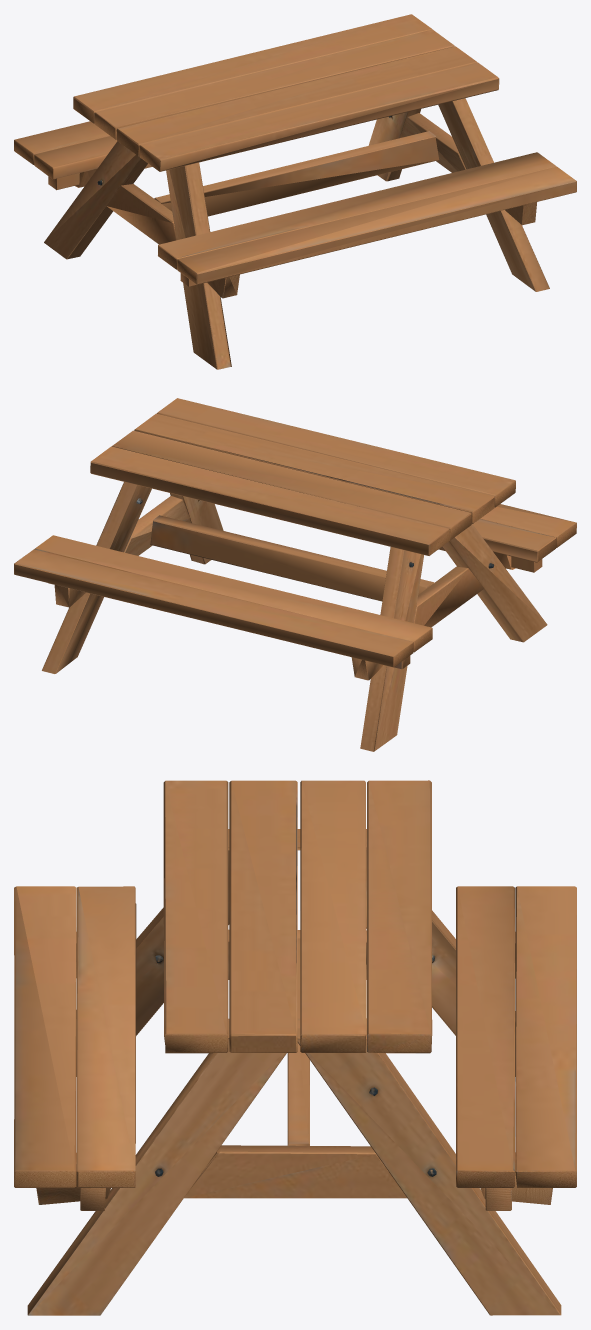
Rendered from picnic_table.glb.
3 renders of one model, top to bottom at view 1: azimuth 30°, elevation 25°; view 2: azimuth 150°, elevation 25°; view 3: azimuth 270°, elevation 25°, orthographic. The views are drawn at different scales.
Visible parts, largest first — view 1: picnic_table_lod0; view 2: picnic_table_lod0; view 3: picnic_table_lod0.
Part boxes in pixels (x1,y1,x2,y2): picnic_table_lod0: [14, 14, 576, 369]; picnic_table_lod0: [14, 398, 576, 751]; picnic_table_lod0: [14, 780, 576, 1315].
Size of what is drawn, in the model's own units: 1.8 by 0.8167 by 1.5.
Materials: 1 (1 with a texture image).
